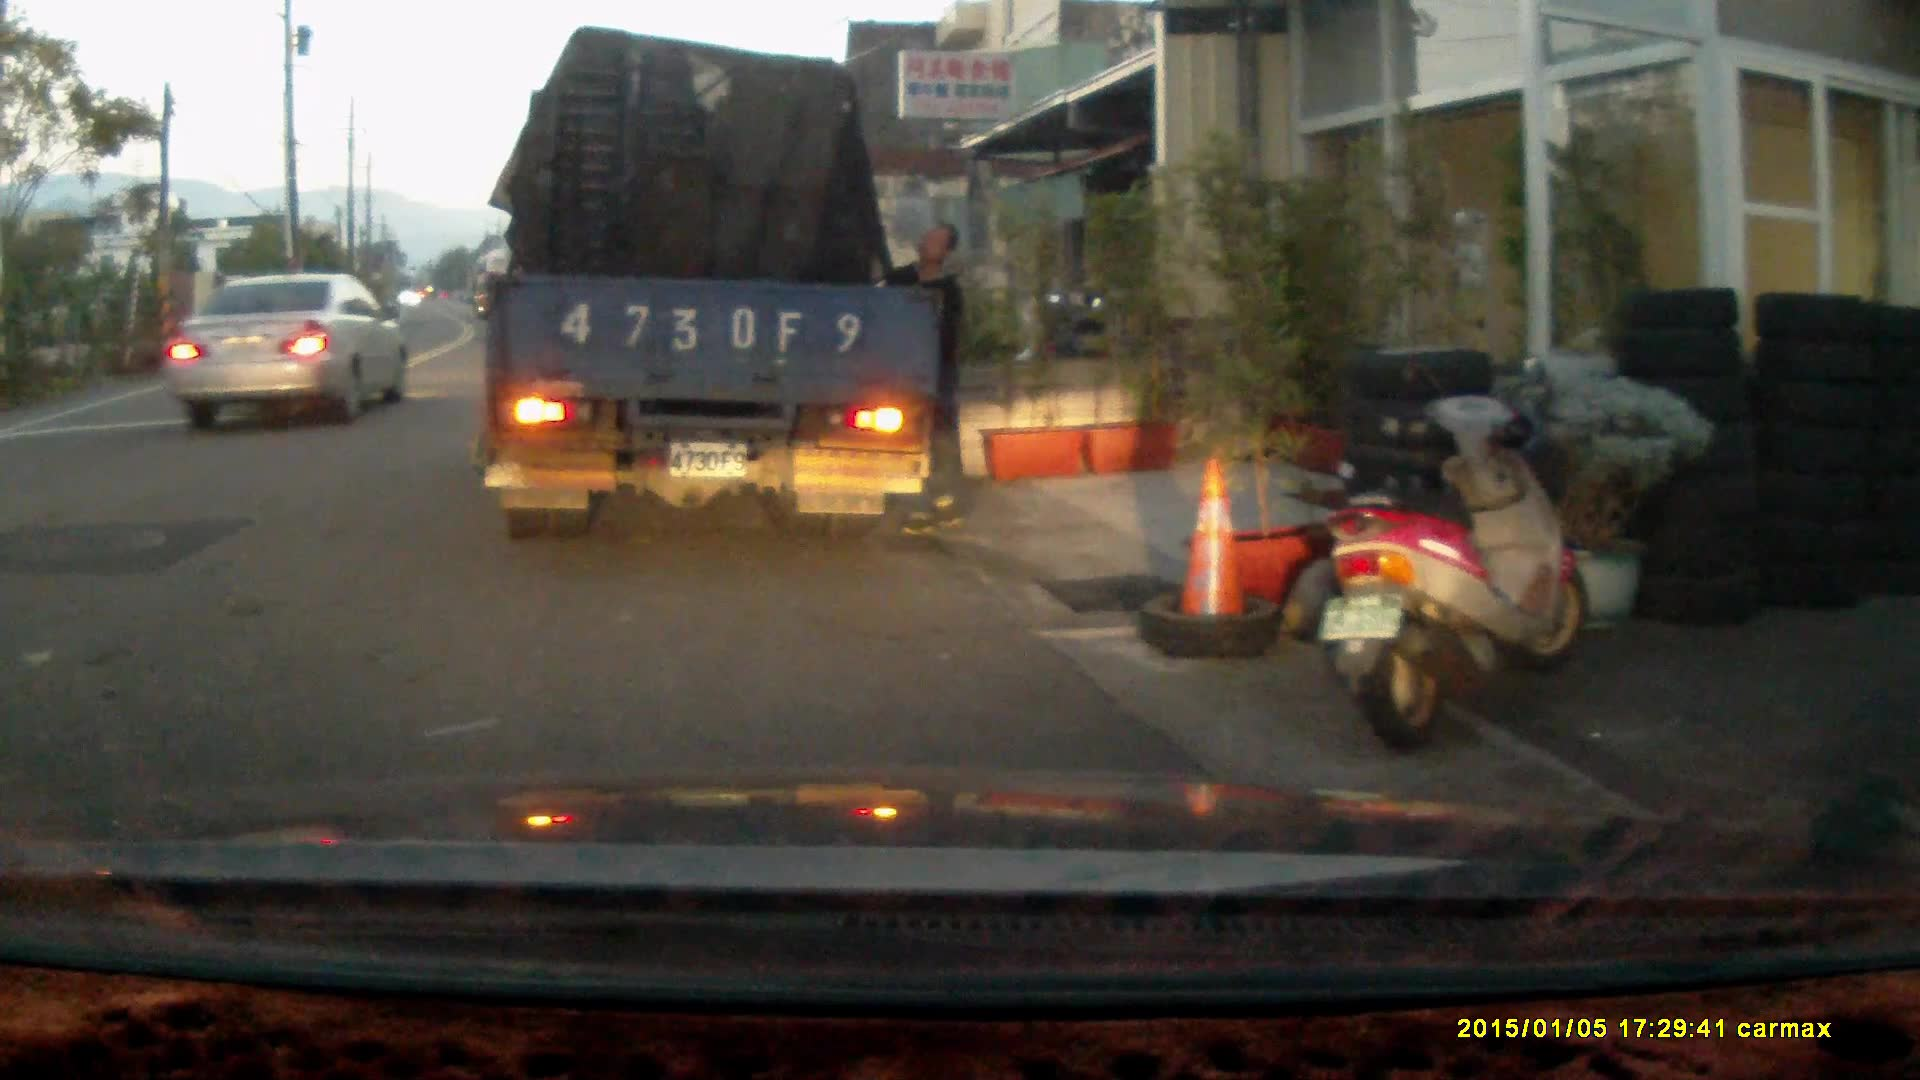pedestrian: (883, 219, 971, 536)
vehicle: (494, 32, 955, 538), (173, 271, 416, 428)
